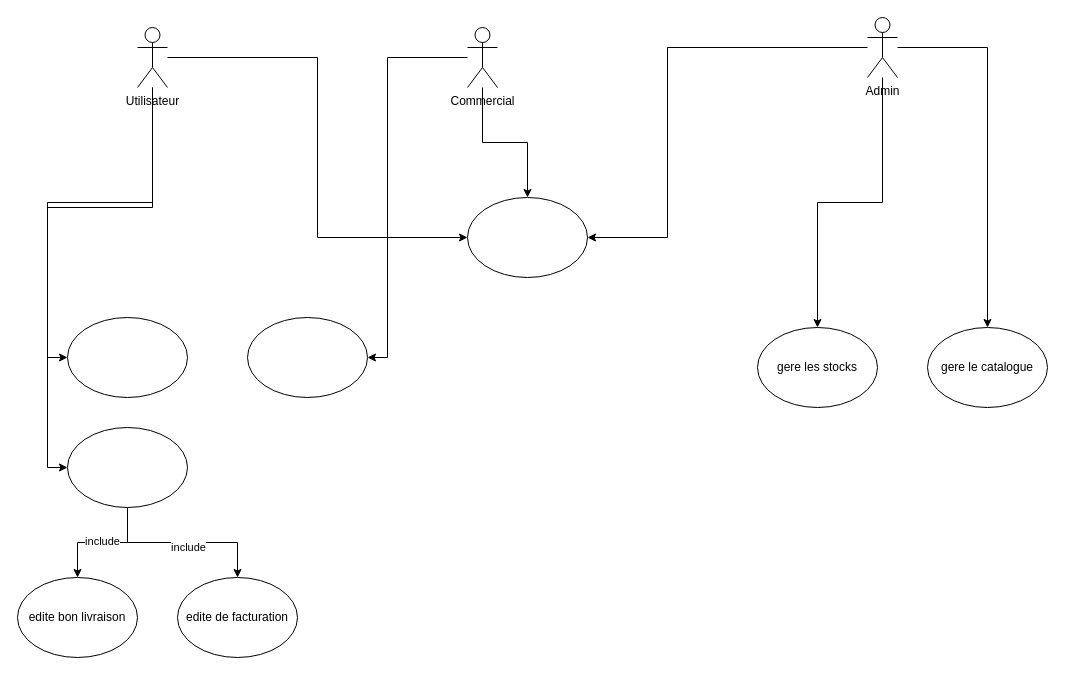
The diagram is 1065 pixels wide and 675 high, and some of its shapes have lost their labels. The shapes that lost their labels are listed below. From the top down, each one's centre as x and y in pixels, then its label:
At pixel 527 237: "Se connecte".
At pixel 127 357: "Consulte le catalogue".
At pixel 307 357: "Gere ses clients".
At pixel 127 467: "Commande".
